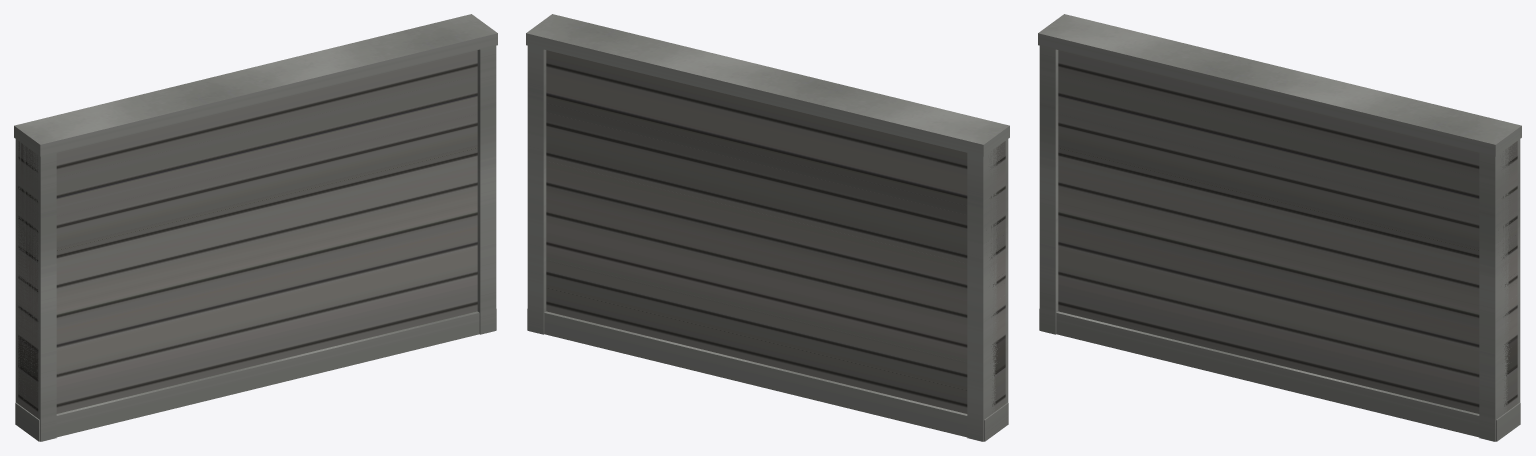
The model's file is muro_piedra_lod0.glb.
3 views of the same model, side by side, from view 1: azimuth 30°, elevation 25°; view 2: azimuth 150°, elevation 25°; view 3: azimuth 330°, elevation 25° (orthographic).
Parts seen in each view (by area): view 1: Pieza_MAT_Muro_Piedra, Pieza_MAT_Concreto; view 2: Pieza_MAT_Muro_Piedra, Pieza_MAT_Concreto; view 3: Pieza_MAT_Muro_Piedra, Pieza_MAT_Concreto.
Part boxes in pixels (x1,y1,x2,y2): Pieza_MAT_Muro_Piedra: (18,50,477,417); Pieza_MAT_Concreto: (14,14,497,441); Pieza_MAT_Muro_Piedra: (546,50,1005,413); Pieza_MAT_Concreto: (526,14,1009,441); Pieza_MAT_Muro_Piedra: (1058,50,1517,413); Pieza_MAT_Concreto: (1038,14,1521,441).
Bounding box in the file's own units: 4.02 × 2.5 × 0.4.
2 materials, 2 textured.
